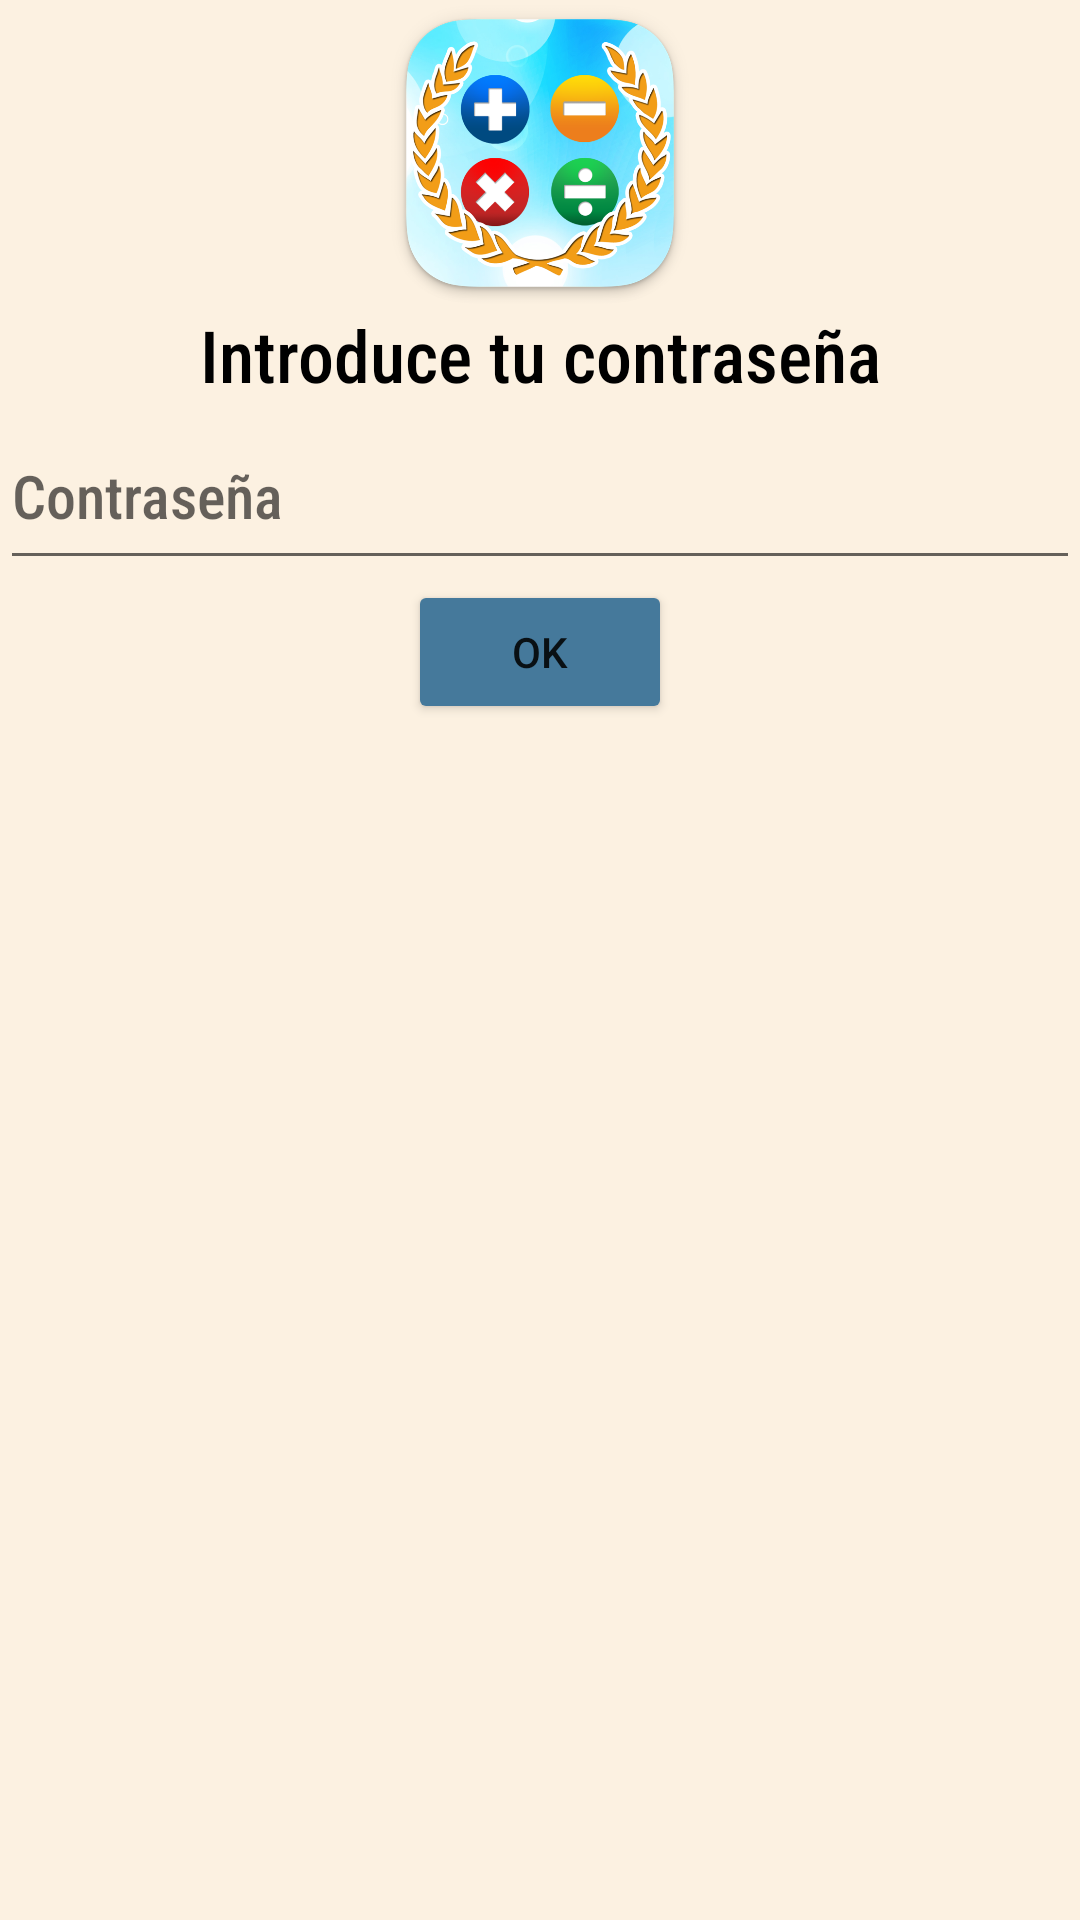

Named icons in this screenshot (1080x1920) and their bounding boxes, (x1, y1, x2, y2):
appicon: (404, 19, 676, 292)
